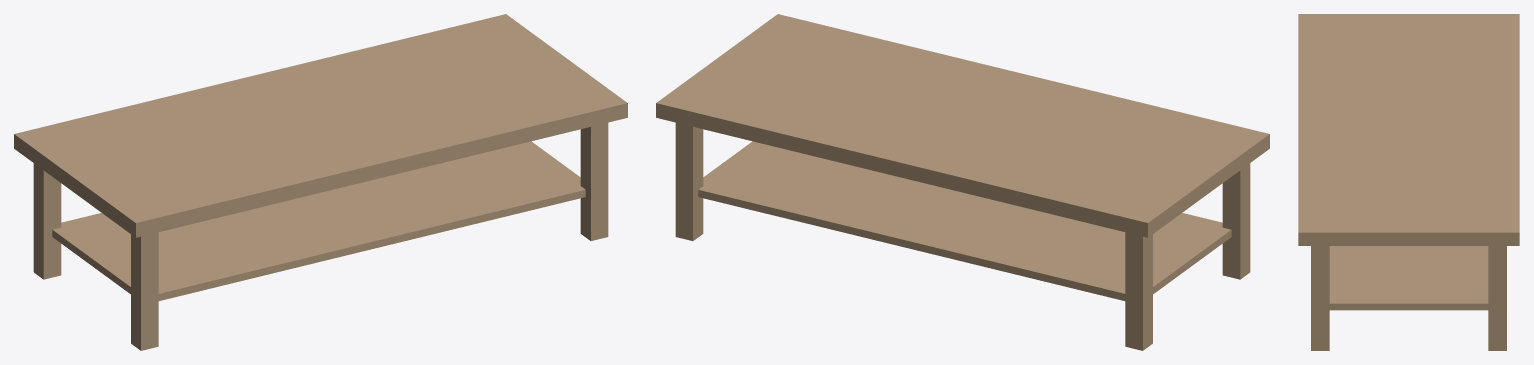
The model's file is coffee_table.glb.
The picture shows the model from 3 angles, left to right: view 1: azimuth 30°, elevation 25°; view 2: azimuth 150°, elevation 25°; view 3: azimuth 270°, elevation 25°; orthographic projection. The views are drawn at different scales.
Visible parts, largest first — view 1: coffee_table; view 2: coffee_table; view 3: coffee_table.
Boxes of the visible parts, <box> form: coffee_table: <box>14,14,627,350</box>; coffee_table: <box>656,14,1269,350</box>; coffee_table: <box>1298,14,1519,350</box>.
Size of the model in its own units: 1.4 by 0.37 by 0.6.
